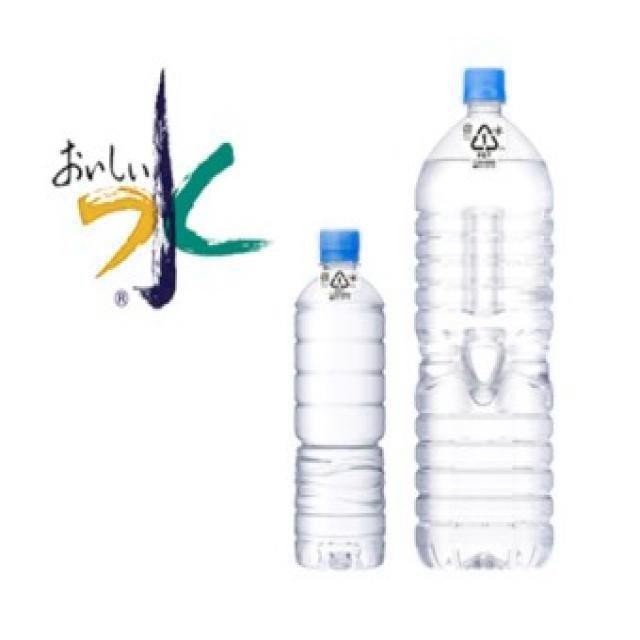bottle: (412, 68, 557, 572), (294, 230, 385, 568)
